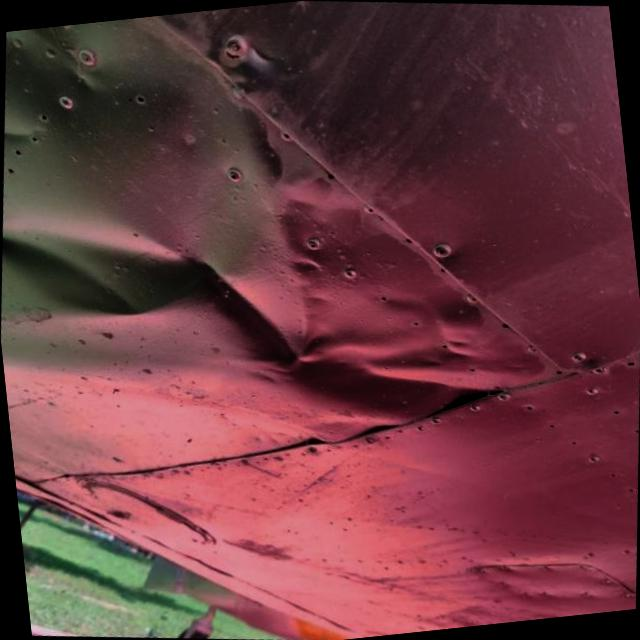Missing Fastener: (382, 422, 428, 444), (369, 286, 391, 310), (132, 86, 152, 108), (586, 362, 608, 381), (458, 362, 479, 380), (616, 358, 636, 376), (604, 403, 622, 422), (583, 383, 601, 399), (517, 400, 534, 416), (437, 339, 452, 356), (3, 162, 18, 179), (346, 438, 362, 452), (608, 466, 620, 482), (411, 316, 424, 330), (566, 437, 578, 452), (12, 146, 26, 158), (321, 447, 333, 461), (544, 419, 556, 432), (331, 443, 344, 455), (622, 486, 636, 497), (28, 135, 40, 143)
